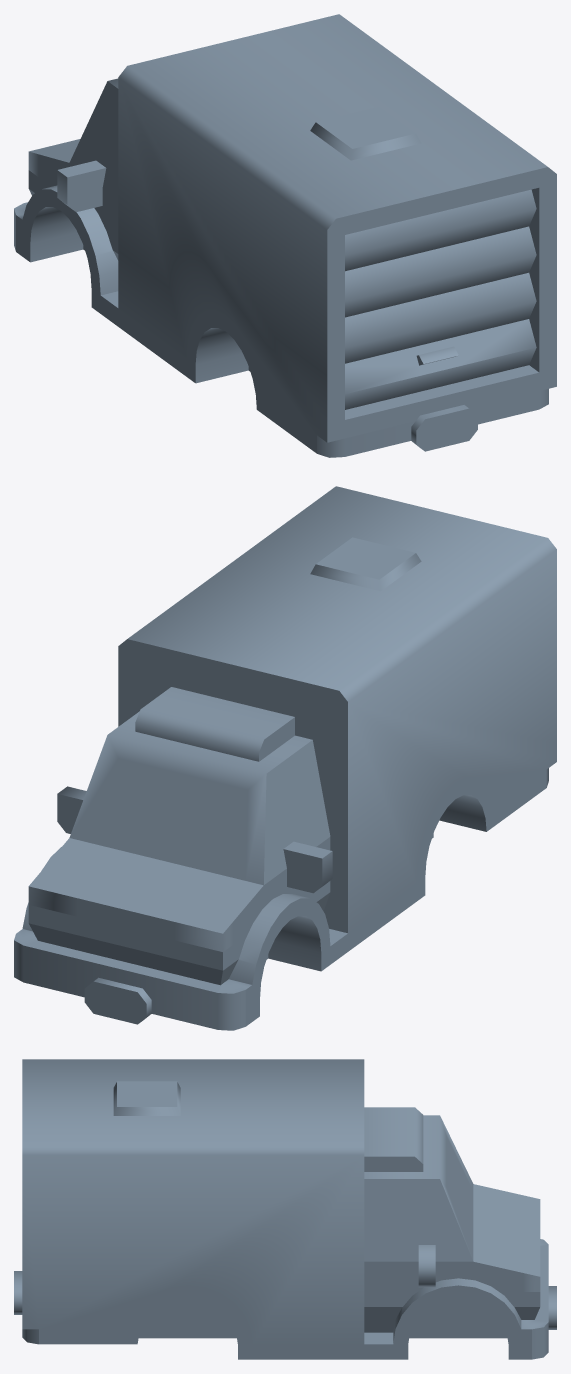
File: delivery.glb
3 views of the same model, one above another, from view 1: azimuth 30°, elevation 25°; view 2: azimuth 150°, elevation 25°; view 3: azimuth 270°, elevation 25° (orthographic). The views are drawn at different scales.
Parts seen in each view (by area): view 1: body (×2); view 2: body; view 3: body.
Boxes of the visible parts, <box> form: body (×2): <box>14,14,556,457</box>; body: <box>14,486,556,1030</box>; body: <box>14,1059,556,1359</box>.
Size of the model in its own units: 1.5 by 1.5 by 3.25.
